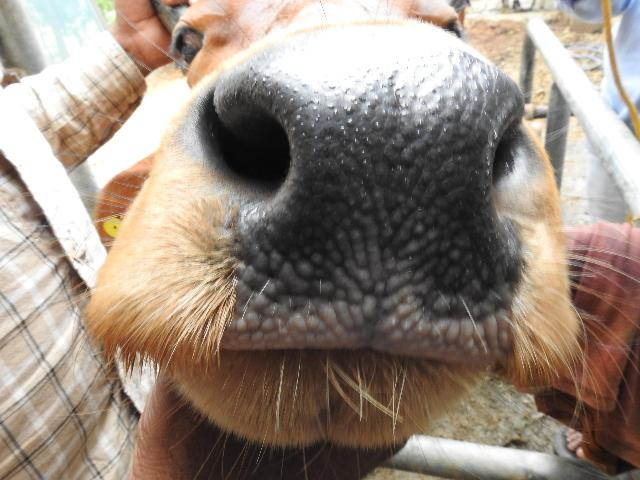Muzzle: (278, 49, 500, 327)
